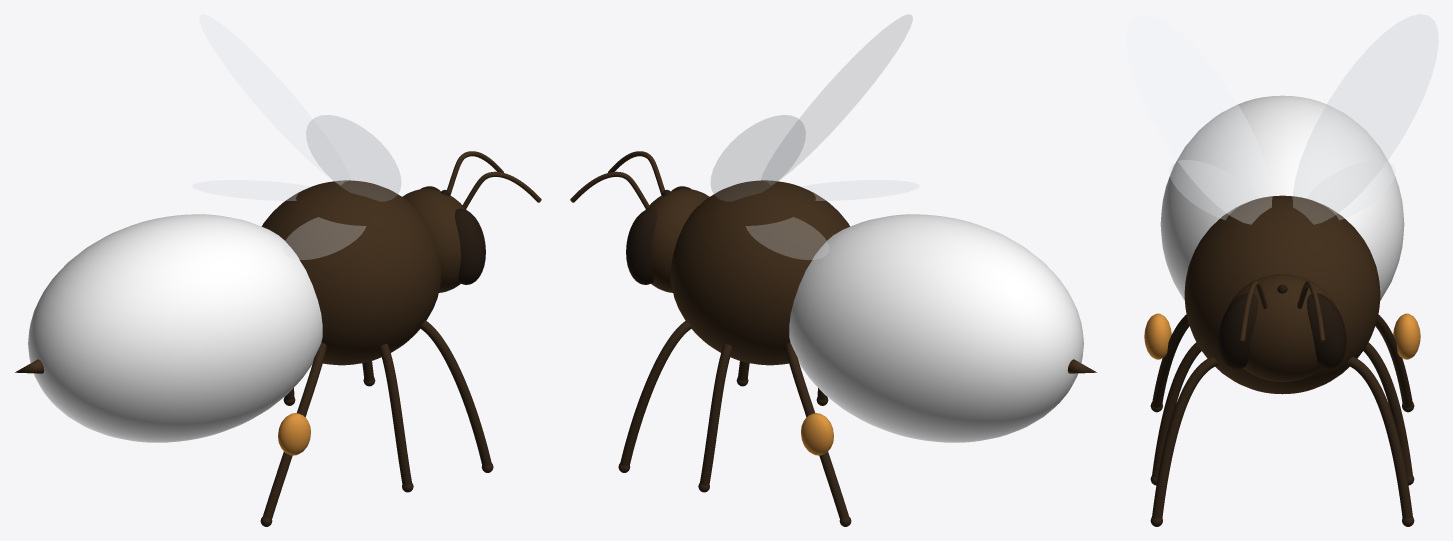
File: bee.glb
The picture shows the model from 3 angles, left to right: view 1: azimuth 30°, elevation 25°; view 2: azimuth 150°, elevation 25°; view 3: azimuth 270°, elevation 25°; orthographic projection. The views are drawn at different scales.
Parts seen in each view (by area): view 1: abdomen, thorax, forewing_L, forewing_R, head, hindwing_R, hindwing_L, eyeR, leg_0_R, leg_1_R, leg_2_R, pollen_R; view 2: abdomen, thorax, forewing_R, forewing_L, head, hindwing_L, hindwing_R, eyeL, leg_0_L, leg_1_L, leg_2_L, pollen_L; view 3: abdomen, thorax, forewing_L, forewing_R, head, hindwing_L, hindwing_R, eyeL, eyeR, leg_0_L, leg_0_R, leg_1_L (+7 smaller).
Part boxes in pixels (bbox=[...]): abdomen: bbox=[28, 214, 322, 442]; thorax: bbox=[262, 180, 441, 365]; forewing_L: bbox=[199, 14, 350, 184]; forewing_R: bbox=[306, 115, 401, 201]; head: bbox=[402, 189, 466, 292]; hindwing_R: bbox=[283, 217, 365, 259]; hindwing_L: bbox=[192, 180, 310, 200]; eyeR: bbox=[455, 208, 485, 284]; leg_0_R: bbox=[420, 320, 491, 466]; leg_1_R: bbox=[379, 344, 411, 485]; leg_2_R: bbox=[262, 342, 326, 519]; pollen_R: bbox=[278, 413, 310, 455]; abdomen: bbox=[789, 214, 1083, 442]; thorax: bbox=[670, 180, 849, 365]; forewing_R: bbox=[761, 14, 912, 184]; forewing_L: bbox=[710, 115, 805, 201]; head: bbox=[645, 189, 709, 292]; hindwing_L: bbox=[746, 217, 828, 259]; hindwing_R: bbox=[801, 180, 919, 200]; eyeL: bbox=[626, 208, 656, 284]; leg_0_L: bbox=[620, 320, 691, 466]; leg_1_L: bbox=[700, 344, 732, 485]; leg_2_L: bbox=[785, 342, 849, 519]; pollen_L: bbox=[801, 413, 833, 455]; abdomen: bbox=[1160, 95, 1404, 300]; thorax: bbox=[1184, 195, 1380, 394]; forewing_L: bbox=[1293, 14, 1438, 224]; forewing_R: bbox=[1126, 14, 1271, 224]; head: bbox=[1227, 274, 1337, 382]; hindwing_L: bbox=[1306, 160, 1395, 219]; hindwing_R: bbox=[1169, 160, 1258, 219]; eyeL: bbox=[1307, 293, 1346, 368]; eyeR: bbox=[1218, 293, 1257, 368]; leg_0_L: bbox=[1346, 357, 1412, 518]; leg_0_R: bbox=[1152, 357, 1218, 518]; leg_1_L: bbox=[1363, 342, 1412, 477].
Bounding box in the file's own units: 4.96 × 3.76 × 2.49.
